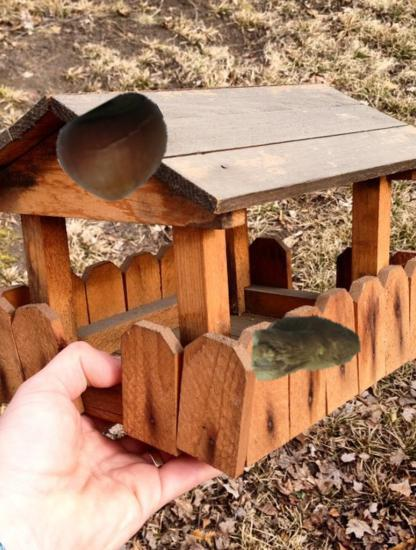Ginger: (248, 291, 363, 406)
Nut: (59, 92, 174, 207)
